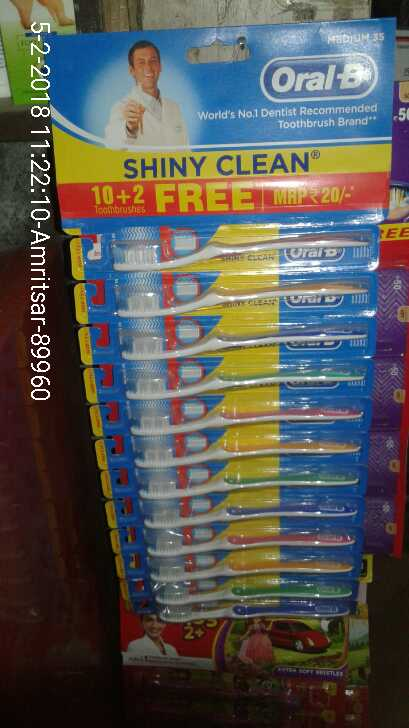oralb: (81, 231, 396, 273), (100, 276, 363, 324), (117, 311, 380, 359), (113, 351, 376, 399), (117, 391, 380, 439), (121, 424, 384, 472), (123, 455, 386, 503), (126, 483, 389, 531), (124, 513, 387, 561), (137, 532, 400, 580), (139, 554, 402, 602), (142, 587, 405, 635)
